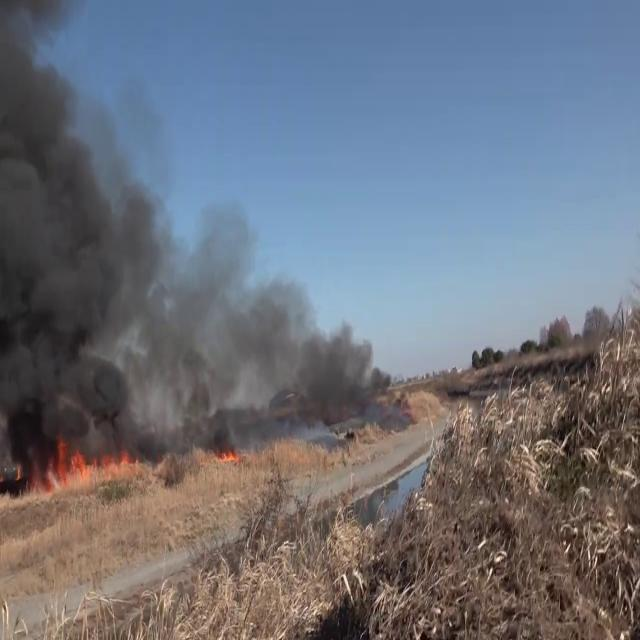Fire: (17, 433, 147, 491)
Smoke: (0, 2, 150, 471), (147, 204, 404, 435)
